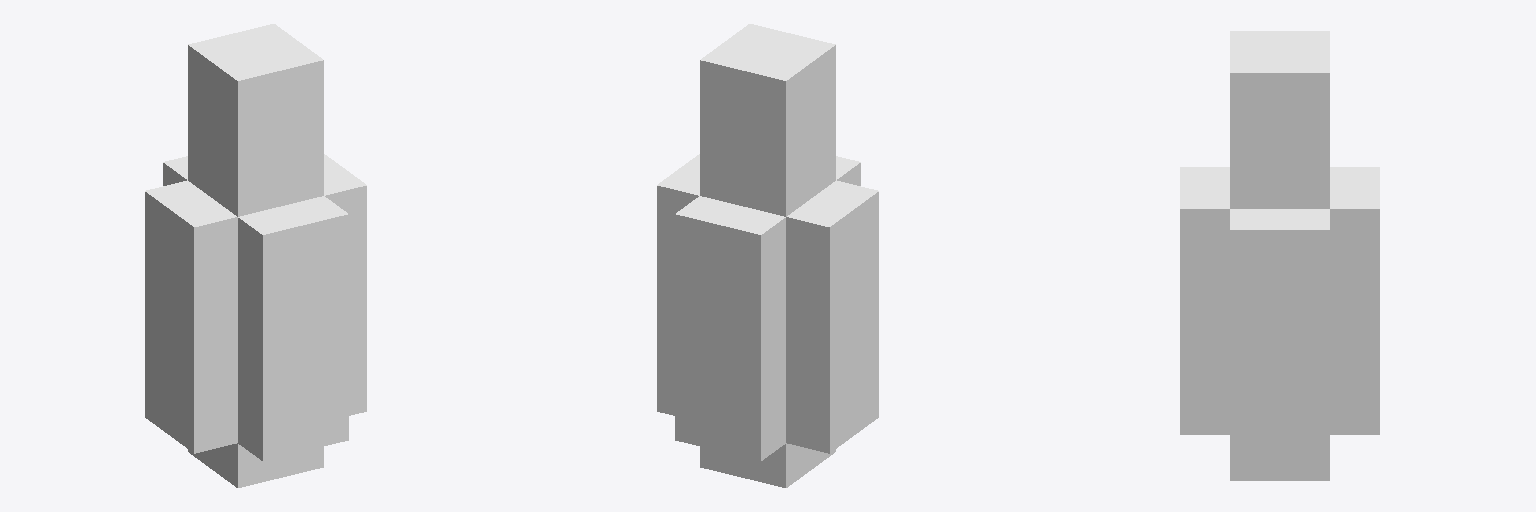
Rendered from pine.obj.
The picture shows the model from 3 angles: view 1: azimuth 30°, elevation 25°; view 2: azimuth 150°, elevation 25°; view 3: azimuth 270°, elevation 25°; orthographic projection.
Parts seen in each view (by area): view 1: pine; view 2: pine; view 3: pine.
Part boxes in pixels (x1,y1,x2,y2): pine: (145, 24, 366, 487); pine: (657, 24, 878, 487); pine: (1180, 31, 1379, 480).
Bounding box in the file's own units: 4 × 9 × 4.